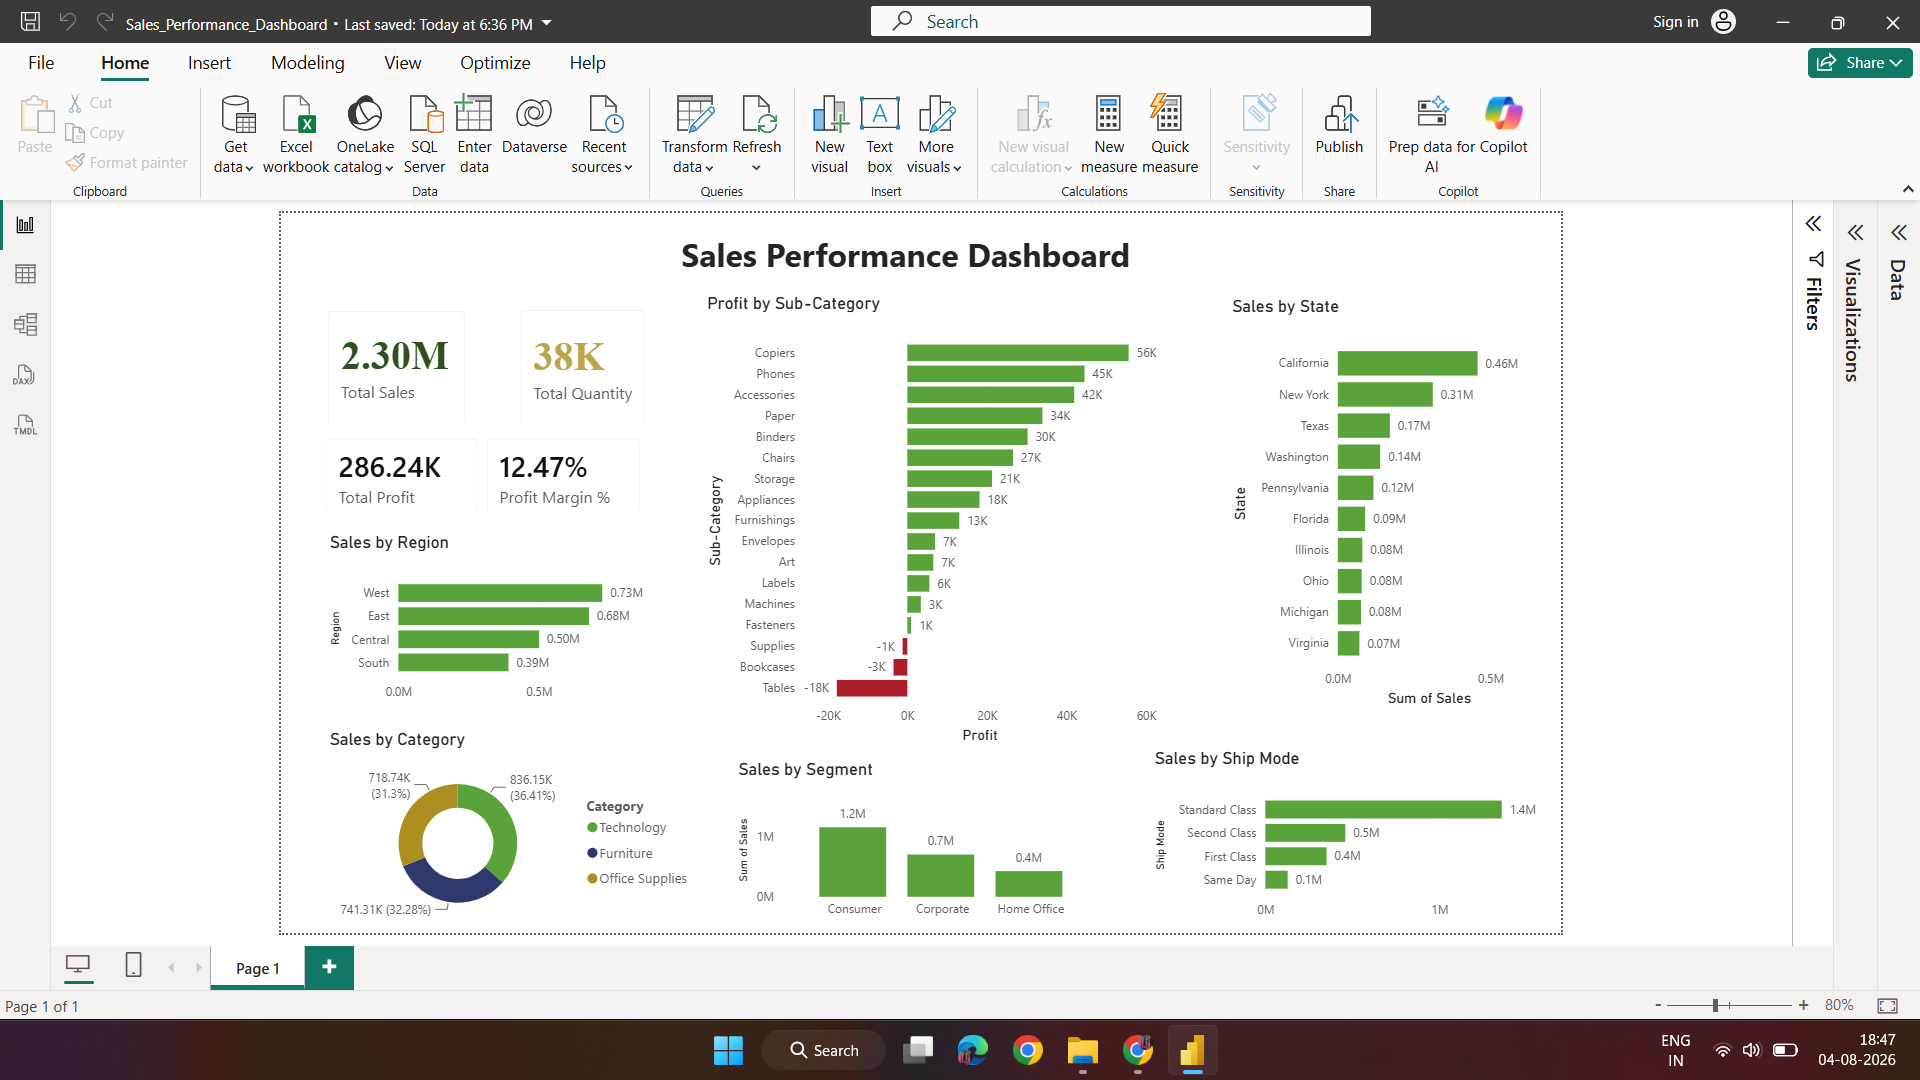

The dashboard page shown, as its layout file describes it:
{"tool":"powerbi","page":{"name":"Page 1","canvas":[1280,720],"ordinal":0},"visuals":[{"type":"cardVisual","fields":{"Data":["Sum(SampleSuperstore.Sales)"]},"box":[30.6,80.7,171.2,146.7],"z":0},{"type":"cardVisual","fields":{"Data":["Sum(SampleSuperstore.Quantity)"]},"box":[222.6,79.5,159,149.2],"z":1000},{"type":"donutChart","fields":{"Category":["SampleSuperstore.Category"],"Y":["Sum(SampleSuperstore.Sales)"]},"box":[44,516,376.6,198.1],"z":2000},{"type":"clusteredBarChart","fields":{"Category":["SampleSuperstore.Region"],"Y":["Sum(SampleSuperstore.Sales)"]},"box":[44,319.2,337.5,178.5],"z":3000},{"type":"clusteredBarChart","fields":{"Category":["SampleSuperstore.Sub-Category"],"Y":["Sum(SampleSuperstore.Profit)"]},"box":[420.7,79.5,469.6,454.9],"z":4000},{"type":"textbox","box":[302,14.7,644.4,67.3],"z":5000},{"type":"clusteredColumnChart","title":"Sales by Segment","fields":{"Category":["SampleSuperstore.Segment"],"Y":["Sum(SampleSuperstore.Sales)"]},"box":[452.4,546.6,373,167.5],"z":6000},{"type":"clusteredBarChart","title":"Sales by Ship Mode","fields":{"Category":["SampleSuperstore.Ship Mode"],"Y":["Sum(SampleSuperstore.Sales)"]},"box":[868.2,534.4,401.1,179.8],"z":7000},{"type":"clusteredBarChart","title":"Sales by State","fields":{"Category":["SampleSuperstore.State"],"Y":["Sum(SampleSuperstore.Sales)"]},"box":[946.5,81.9,313,415.8],"z":8000},{"type":"cardVisual","fields":{"Data":["Sum(SampleSuperstore.Profit)","SampleSuperstore.Profit Margin %"]},"box":[26.9,209.1,349.7,108.8],"z":9000}]}

Visuals, with their boxes on the page's 1280x720 design canvas (x1, y1, x2, y2). These are canvas units, not pixel positions in the 1920x1080 screenshot, which may show the page scaled, cropped or inside an application window:
cardVisual - Sum(SampleSuperstore.Sales): bbox(31, 81, 202, 227)
cardVisual - Sum(SampleSuperstore.Quantity): bbox(223, 80, 382, 229)
donutChart - SampleSuperstore.Category x Sum(SampleSuperstore.Sales): bbox(44, 516, 421, 714)
clusteredBarChart - SampleSuperstore.Region x Sum(SampleSuperstore.Sales): bbox(44, 319, 382, 498)
clusteredBarChart - SampleSuperstore.Sub-Category x Sum(SampleSuperstore.Profit): bbox(421, 80, 890, 534)
textbox: bbox(302, 15, 946, 82)
"Sales by Segment" clusteredColumnChart: bbox(452, 547, 825, 714)
"Sales by Ship Mode" clusteredBarChart: bbox(868, 534, 1269, 714)
"Sales by State" clusteredBarChart: bbox(946, 82, 1260, 498)
cardVisual - Sum(SampleSuperstore.Profit) x SampleSuperstore.Profit Margin %: bbox(27, 209, 377, 318)
